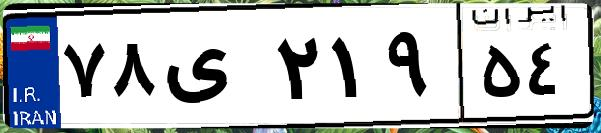1: (330, 28, 385, 110)
2: (270, 28, 330, 110)
4: (525, 38, 570, 115)
5: (475, 38, 525, 113)
7: (57, 26, 110, 100)
8: (110, 28, 158, 98)
9: (385, 28, 445, 110)
ی: (158, 20, 270, 120)
